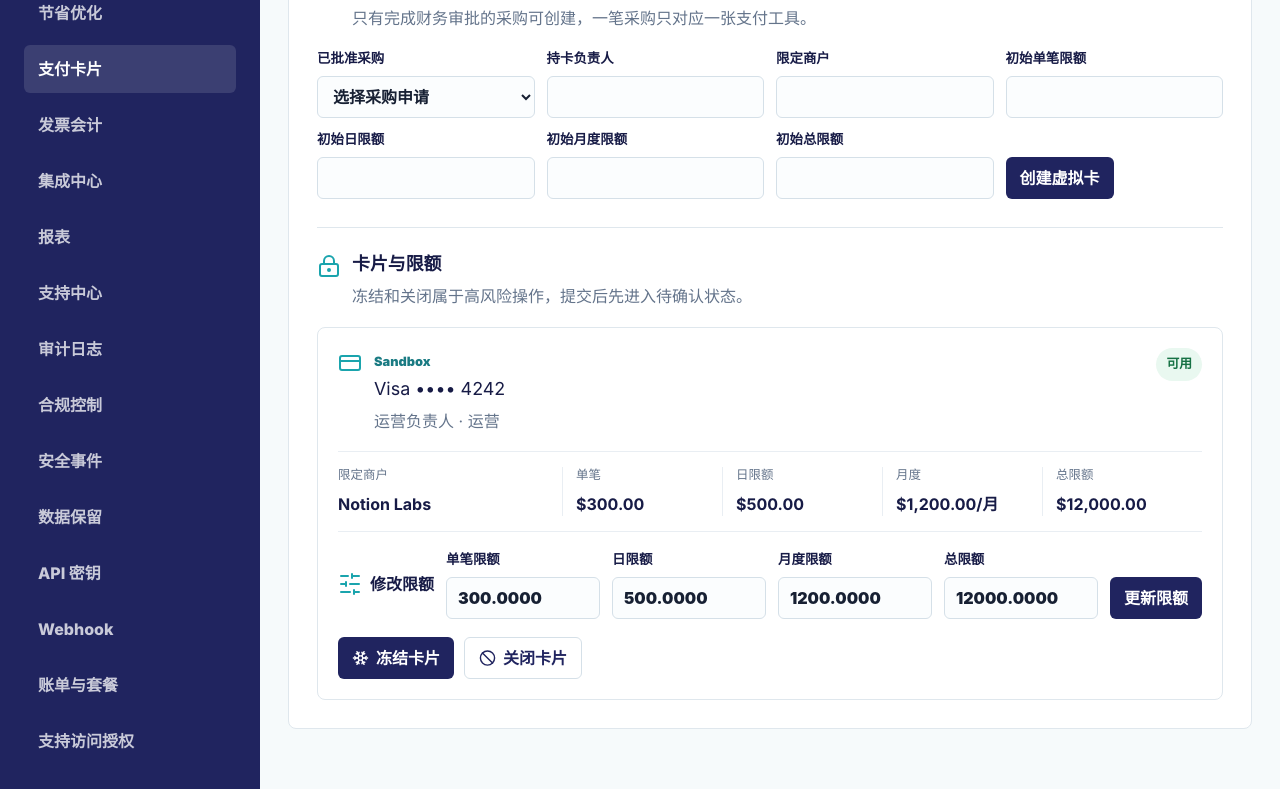
Scenario: requires confirmation before closing a virtual card
(page scrolled)
What coordinates should you click on to do the following:
click the button "关闭卡片"
I would click on:
 (523, 658)
Its box is [464,637,582,679].
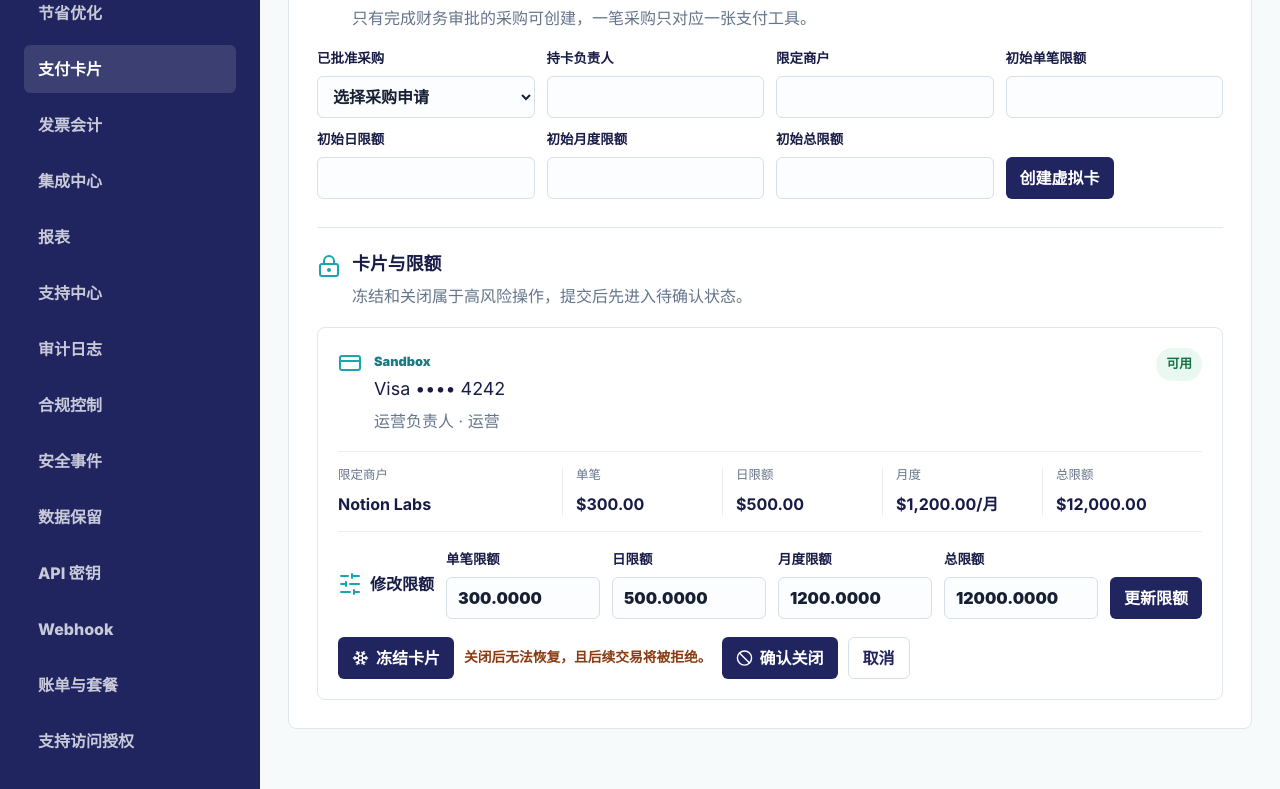
Check: the text "关闭后无法恢复，且后续交易将被拒绝。" is shown, box [464,648,712,668]
What coordinates should you click on to do the following:
click the button "确认关闭"
I would click on:
 (780, 658)
Its box is [722,637,838,679].
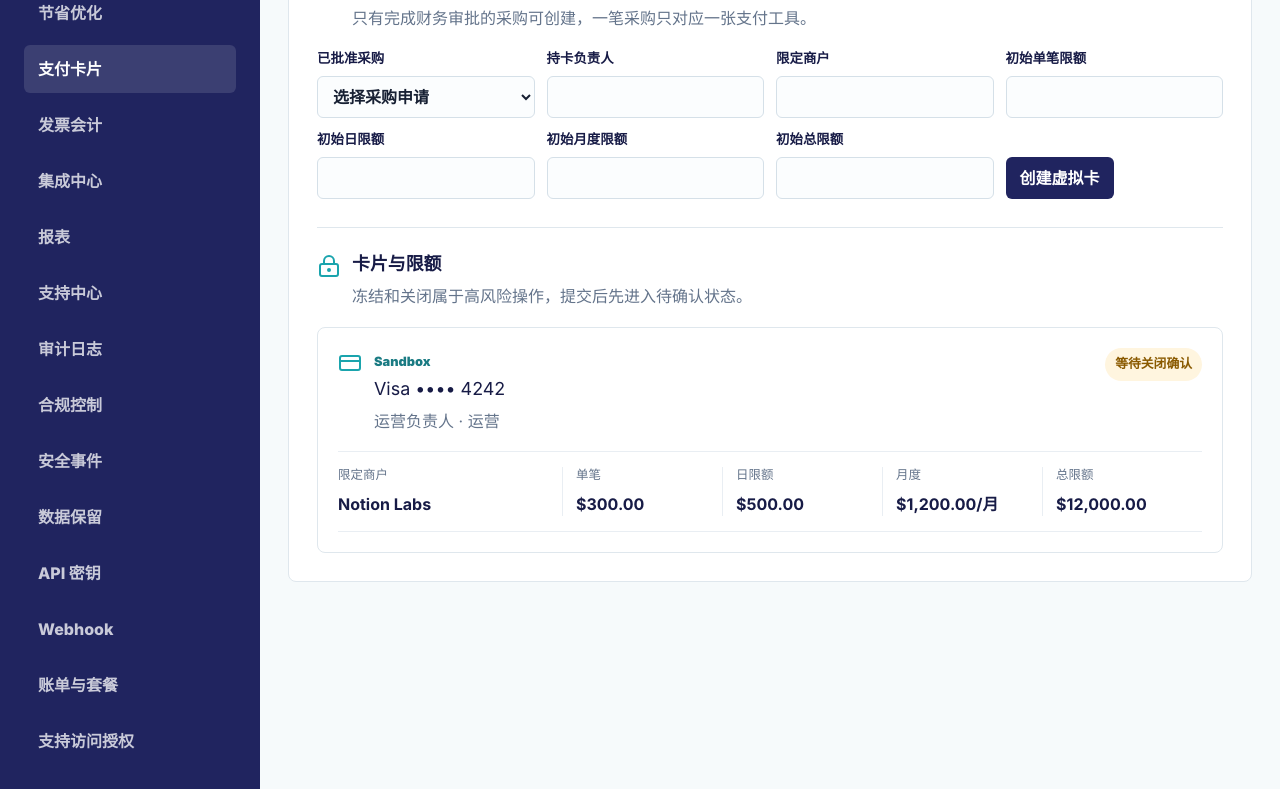
Check: the text "等待关闭确认" is shown, box [1105,348,1202,381]
